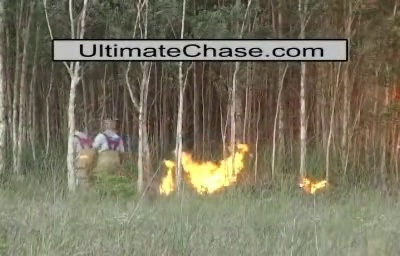fire: (157, 140, 252, 196), (297, 172, 330, 195)
